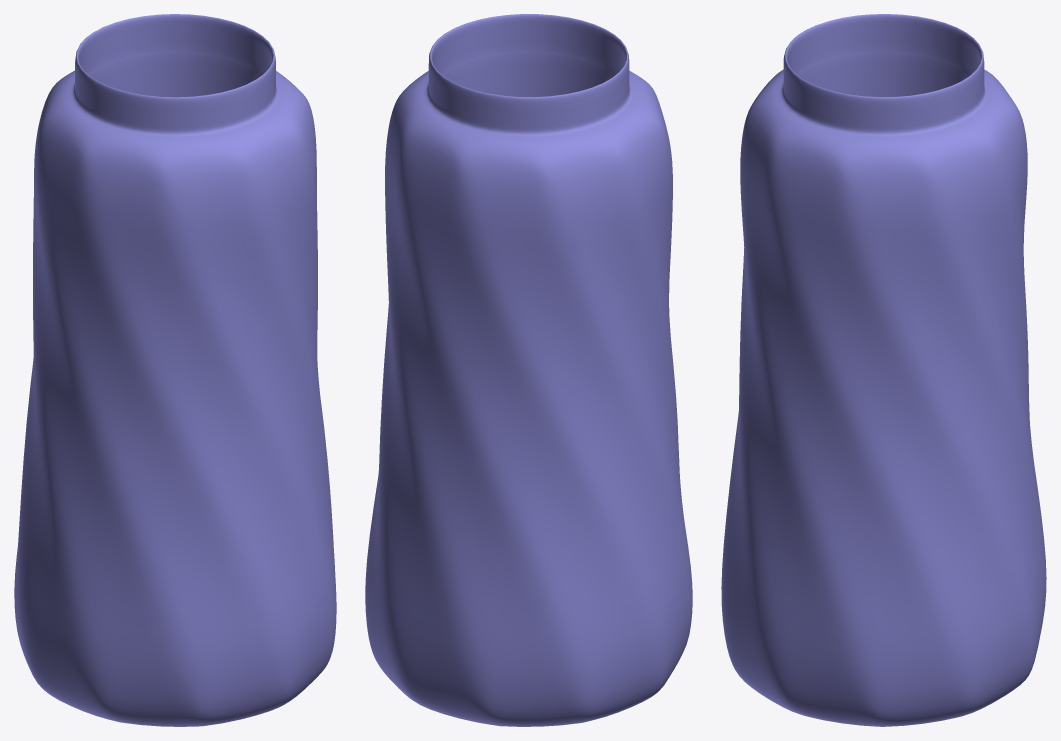
Rendered from uploads_files_1923420_Salt+Shakers_Body1.FBX.
3 views of the same model, side by side, from view 1: azimuth 30°, elevation 25°; view 2: azimuth 150°, elevation 25°; view 3: azimuth 270°, elevation 25° (orthographic).
Visible parts, largest first — view 1: uploads_files_1923420_Salt+Shakers_Body1; view 2: uploads_files_1923420_Salt+Shakers_Body1; view 3: uploads_files_1923420_Salt+Shakers_Body1.
Boxes of the visible parts, x1,y1,x2,y2 form: uploads_files_1923420_Salt+Shakers_Body1: [14, 14, 336, 726]; uploads_files_1923420_Salt+Shakers_Body1: [365, 14, 692, 726]; uploads_files_1923420_Salt+Shakers_Body1: [721, 14, 1046, 726].
Size of what is drawn, in the model's own units: 1.9 by 1.9 by 3.97.
